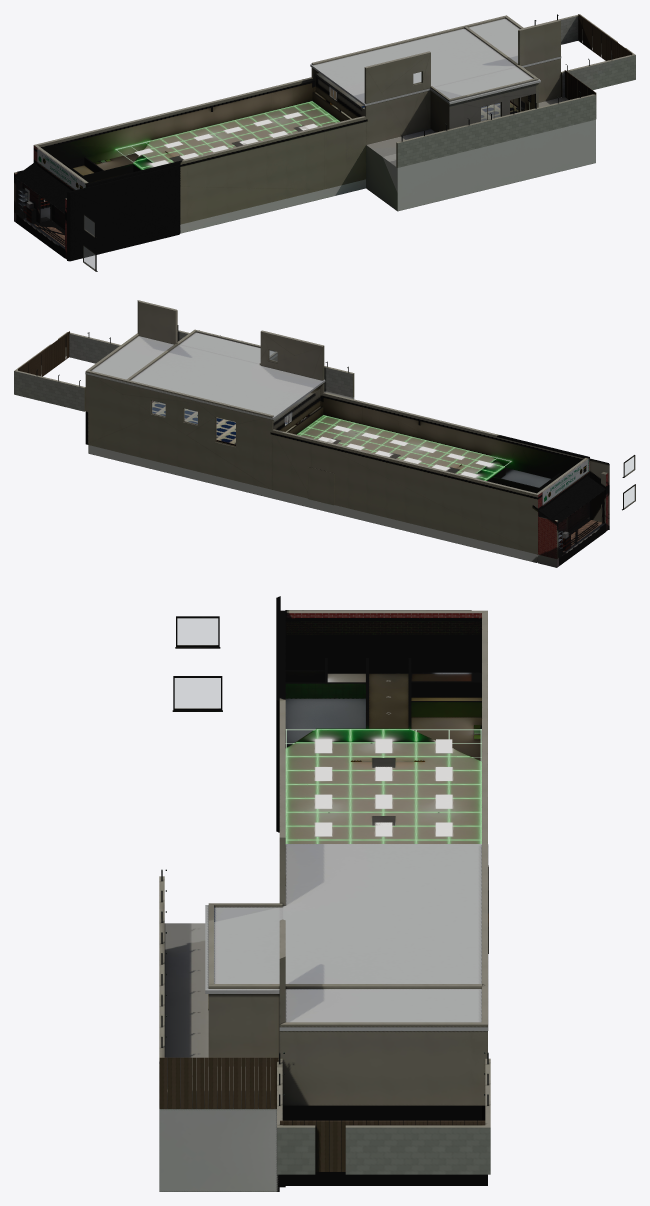
Rendered from baked.glb.
3 views of the same model, one above another, from view 1: azimuth 30°, elevation 25°; view 2: azimuth 150°, elevation 25°; view 3: azimuth 270°, elevation 25° (orthographic). The views are drawn at different scales.
Parts seen in each view (by area): view 1: wall_mosque_rear, Mesh_0, Mesh_30, wall_8kj3flic8dybzzbe, Mesh_1410; view 2: Mesh_0, wall_mosque_rear, Mesh_30, wall_8kj3flic8dybzzbe, Mesh_1410; view 3: wall_mosque_rear, Mesh_30, Mesh_0, wall_8kj3flic8dybzzbe, Mesh_34, Mesh_41.
Boxes of the visible parts, bbox=[...] form: wall_mosque_rear: bbox=[311, 14, 635, 211]; Mesh_0: bbox=[34, 77, 365, 233]; Mesh_30: bbox=[15, 14, 632, 271]; wall_8kj3flic8dybzzbe: bbox=[14, 145, 179, 261]; Mesh_1410: bbox=[40, 102, 522, 222]; Mesh_0: bbox=[88, 392, 589, 562]; wall_mosque_rear: bbox=[14, 300, 354, 489]; Mesh_30: bbox=[18, 325, 635, 557]; wall_8kj3flic8dybzzbe: bbox=[486, 457, 609, 567]; Mesh_1410: bbox=[152, 401, 296, 444]; wall_mosque_rear: bbox=[159, 777, 490, 1191]; Mesh_30: bbox=[159, 616, 488, 1171]; Mesh_0: bbox=[279, 611, 487, 1185]; wall_8kj3flic8dybzzbe: bbox=[276, 596, 487, 832]; Mesh_34: bbox=[175, 678, 220, 708]; Mesh_41: bbox=[177, 618, 217, 644].
Size of the model in its own units: 45.78 by 9.25 by 12.1.
6 materials, 5 textured.
